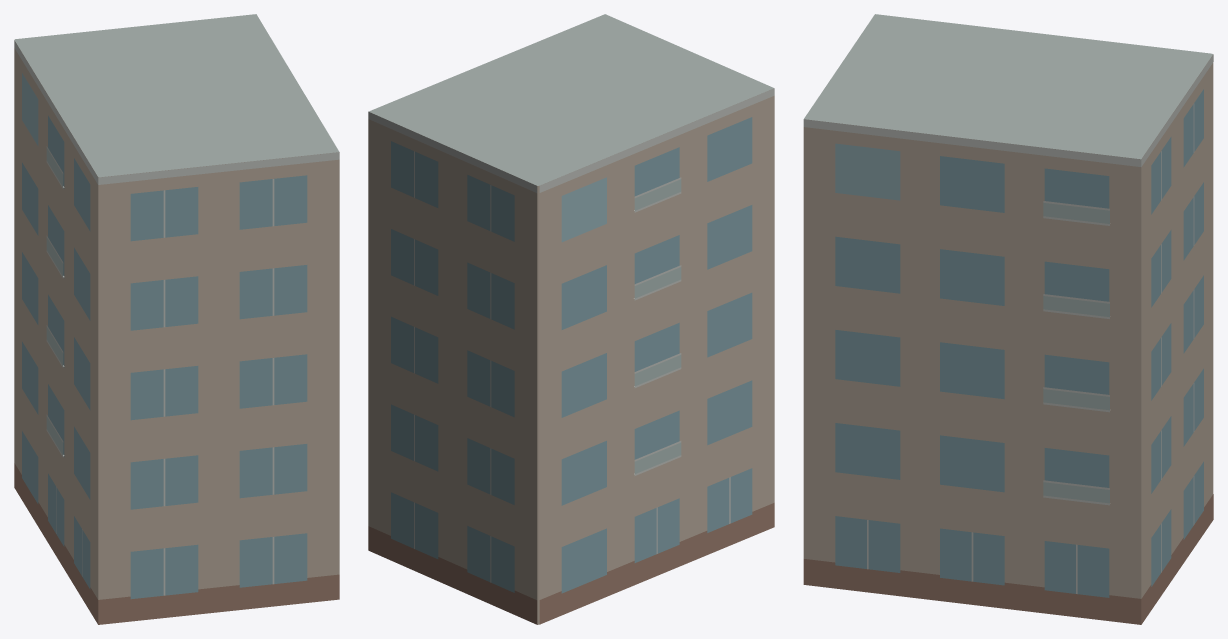
The model's file is survey-upis-32937898.glb.
3 renders of one model, left to right at view 1: azimuth 30°, elevation 25°; view 2: azimuth 150°, elevation 25°; view 3: azimuth 270°, elevation 25°, orthographic. The views are drawn at different scales.
Visible parts, largest first — view 1: survey-upis-32937898.tmp; view 2: survey-upis-32937898.tmp; view 3: survey-upis-32937898.tmp.
Boxes of the visible parts, left/top/right/bottom form: survey-upis-32937898.tmp: left=14, top=14, right=339, bottom=624; survey-upis-32937898.tmp: left=368, top=14, right=774, bottom=624; survey-upis-32937898.tmp: left=803, top=14, right=1213, bottom=624.
Bounding box in the file's own units: 9.64 × 14.4 × 11.5.
